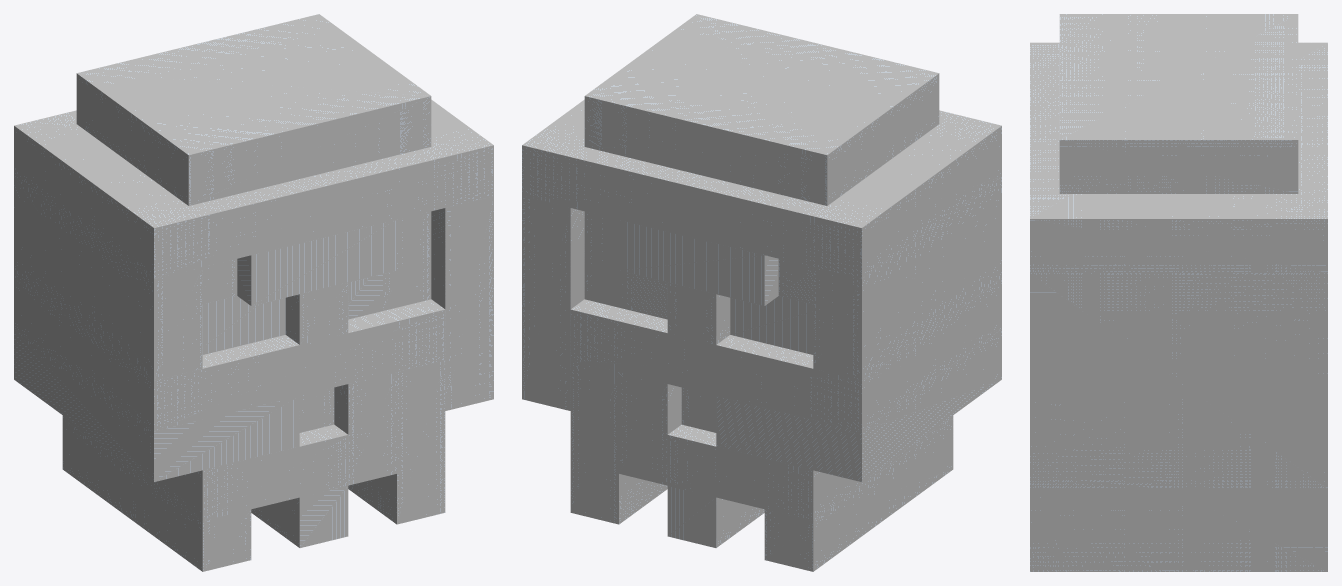
The model's file is skull.fbx.
3 renders of one model, left to right at view 1: azimuth 30°, elevation 25°; view 2: azimuth 150°, elevation 25°; view 3: azimuth 270°, elevation 25°, orthographic. The views are drawn at different scales.
Parts seen in each view (by area): view 1: generated; view 2: generated; view 3: generated.
Part boxes in pixels (x1,y1,x2,y2): generated: (14,14,493,571); generated: (522,14,1001,571); generated: (1030,14,1327,571).
Bounding box in the file's own units: 70 × 80 × 50.
1 material, 1 textured.
